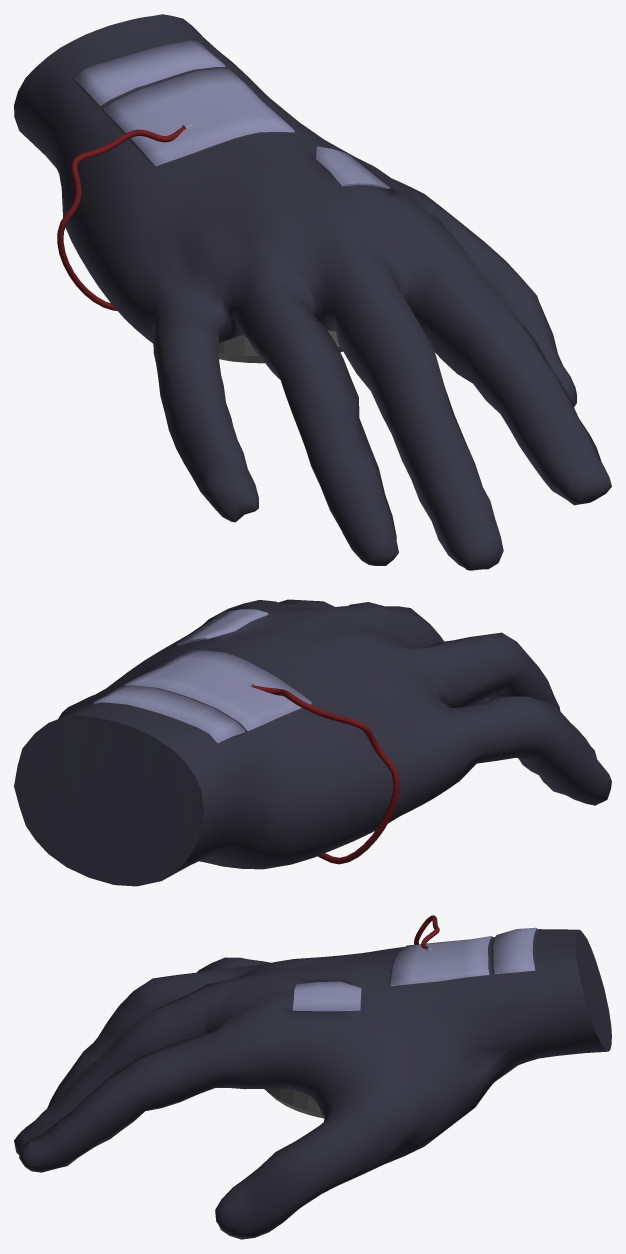
Rendered from PolarisRightHand.fbx.
3 views of the same model, one above another, from view 1: azimuth 30°, elevation 25°; view 2: azimuth 150°, elevation 25°; view 3: azimuth 270°, elevation 25° (orthographic). The views are drawn at different scales.
Visible parts, largest first — view 1: LeftHand.001, BézierCurve.001, Cylinder.002; view 2: LeftHand.001, BézierCurve.001; view 3: LeftHand.001, Cylinder.002.
Part boxes in pixels (left/top/right/bottom): LeftHand.001: left=14, top=14, right=611, bottom=570; BézierCurve.001: left=57, top=127, right=185, bottom=310; Cylinder.002: left=218, top=330, right=342, bottom=363; LeftHand.001: left=14, top=599, right=611, bottom=886; BézierCurve.001: left=251, top=685, right=399, bottom=864; LeftHand.001: left=14, top=927, right=611, bottom=1239; Cylinder.002: left=264, top=1088, right=324, bottom=1118.
Bounding box in the file's own units: 1247 × 786 × 1952.
